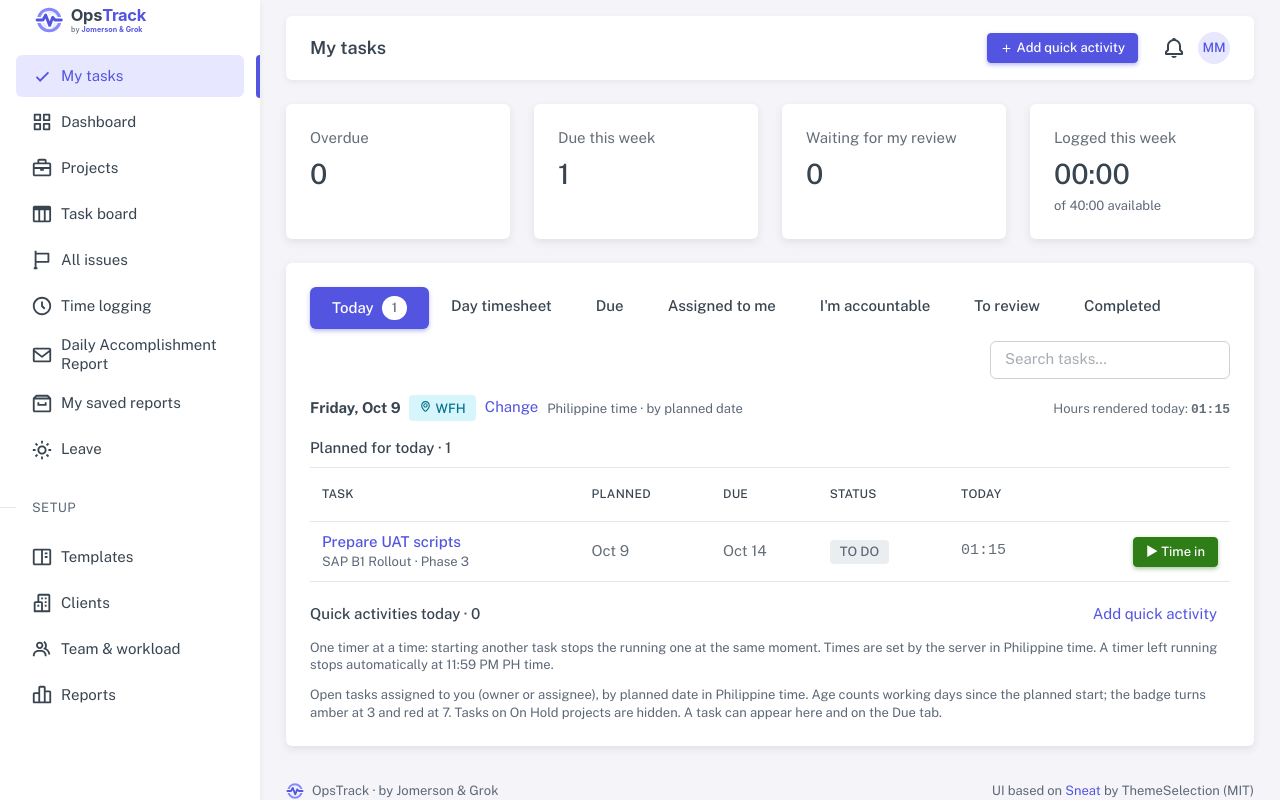
it: Time in → Time out lands on the day timesheet (FR-ACT-01/02, TC-Q01/Q02/Q10) › needs no typing: the prefilled Time in plus Time out creates the entry on that day
Click the button with aria-label "Time in on Prepare UAT scripts": (1176, 552) top-left (1133, 536), bottom-right (1218, 566)
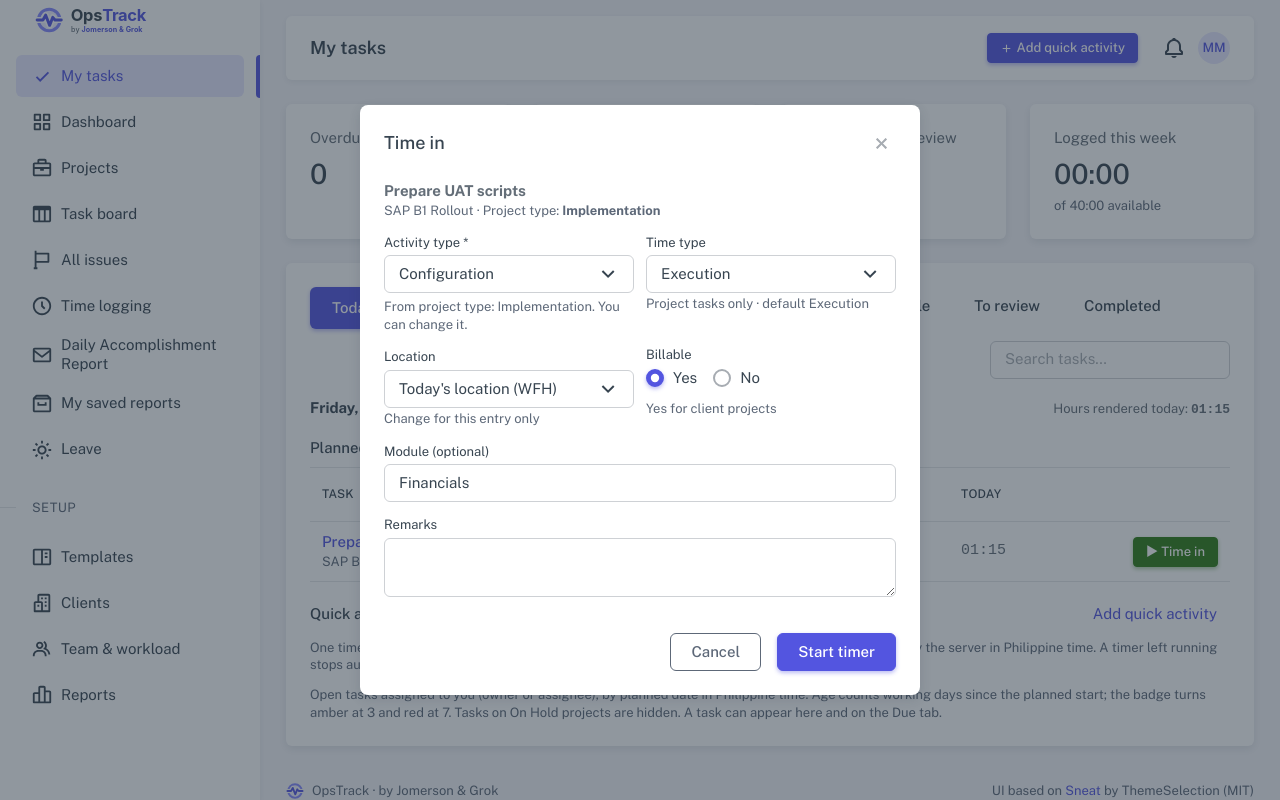
Click the button "Start timer": (837, 652) top-left (777, 633), bottom-right (896, 671)
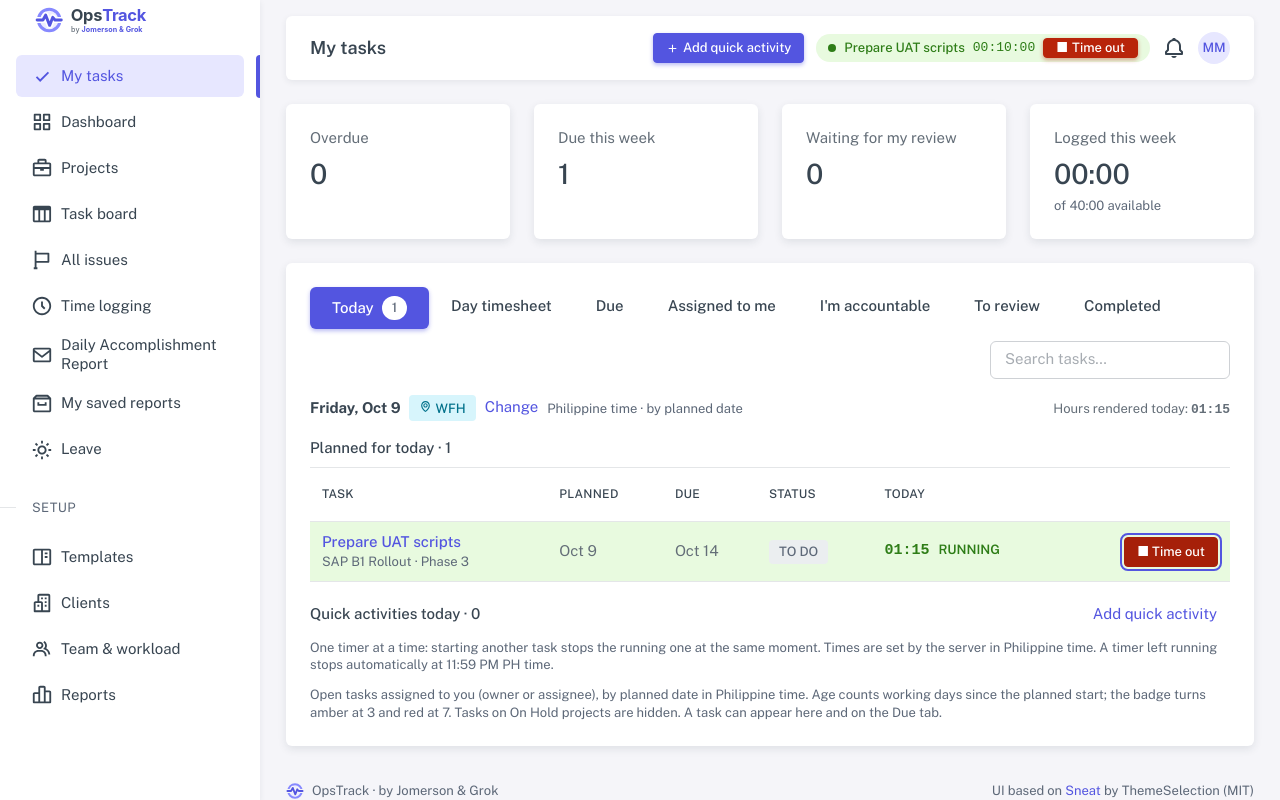
expect the button "Time in" is gone: met
Click the button "■ Time out" in the row of "SAP B1 Rollout": (1171, 552) top-left (1124, 536), bottom-right (1218, 566)
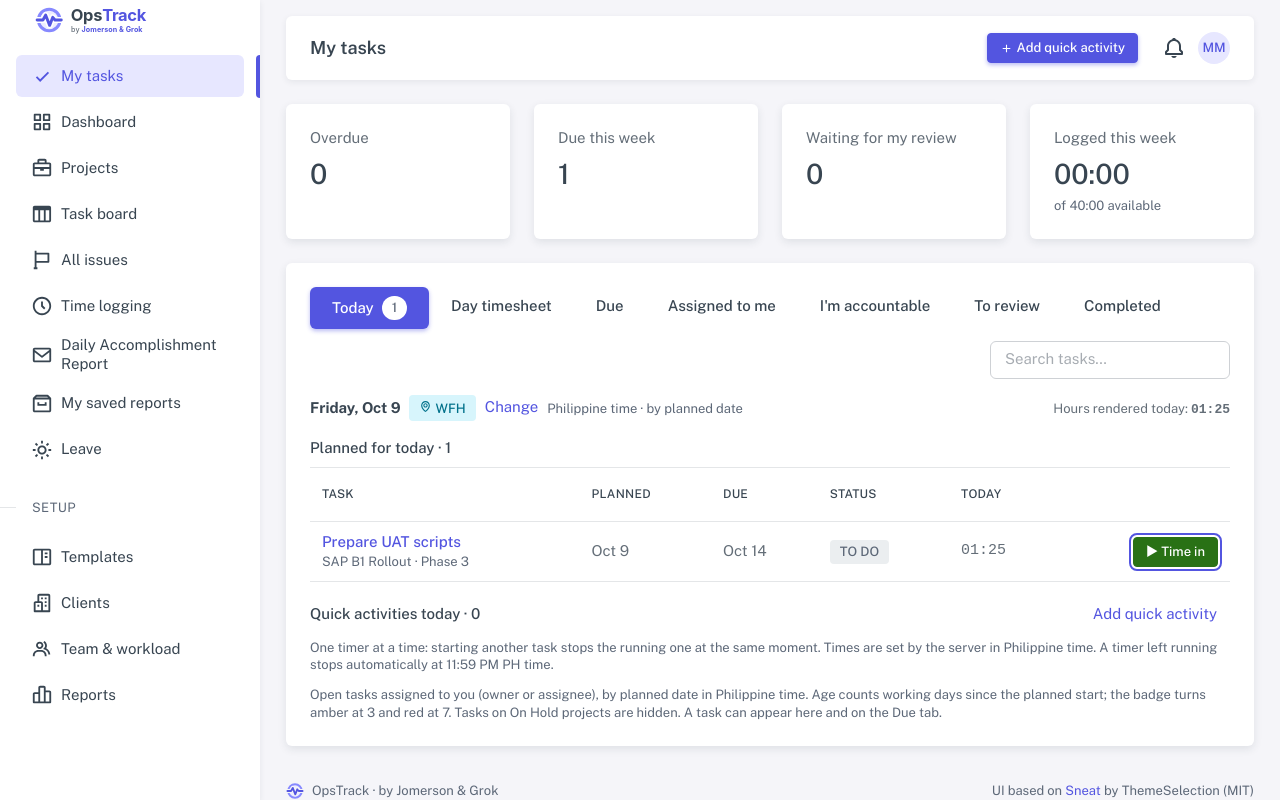
Click the button "Day timesheet": (501, 306) top-left (429, 287), bottom-right (574, 325)
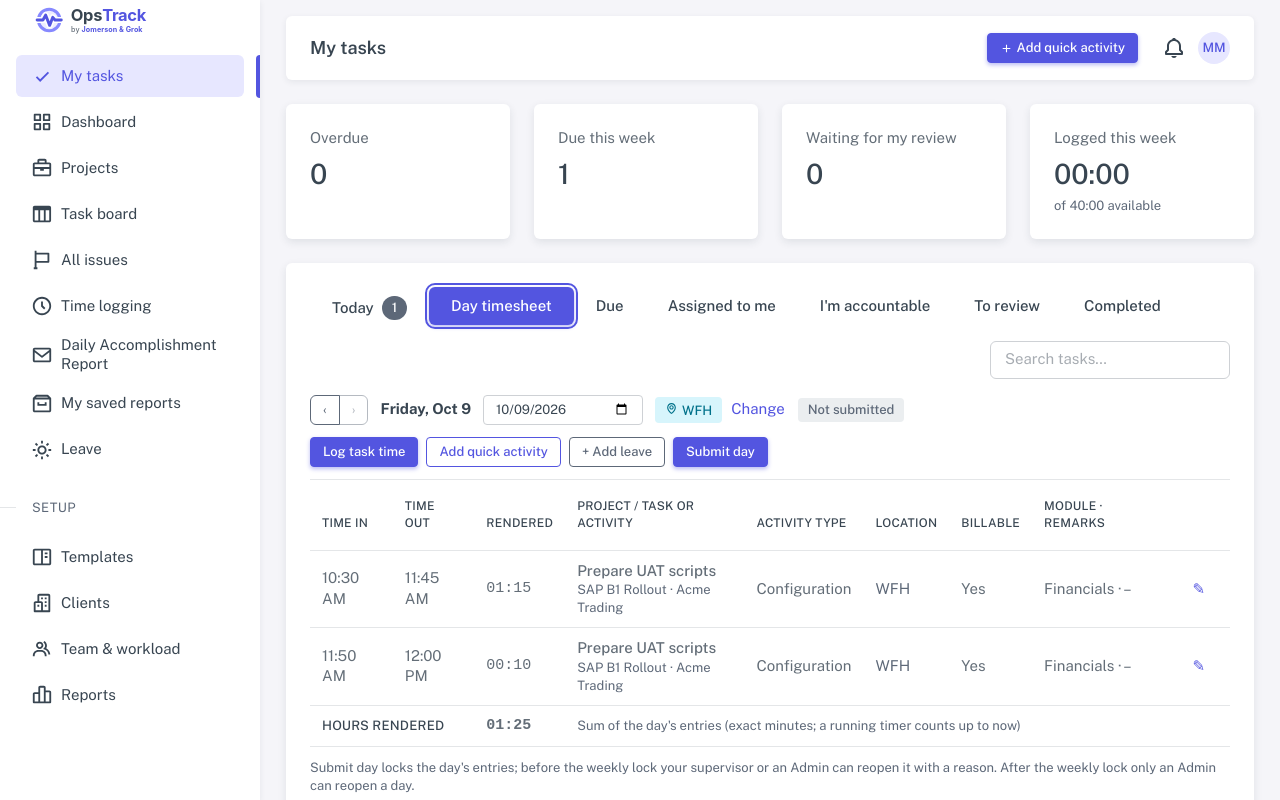
expect the text "11:50 AM" is shown: met, box top-left (310, 628), bottom-right (393, 705)
expect the text "12:00 PM" is shown: met, box top-left (393, 628), bottom-right (474, 705)
expect the text "00:10" is shown: met, box top-left (474, 628), bottom-right (565, 705)
